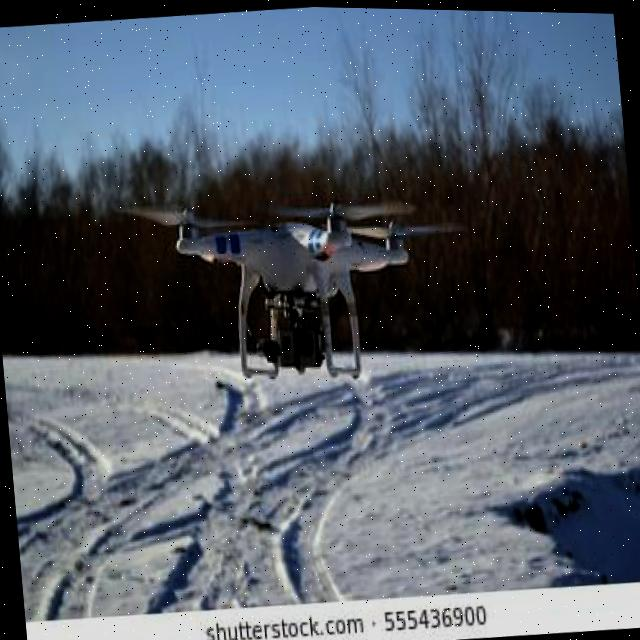drone: (92, 134, 483, 409)
